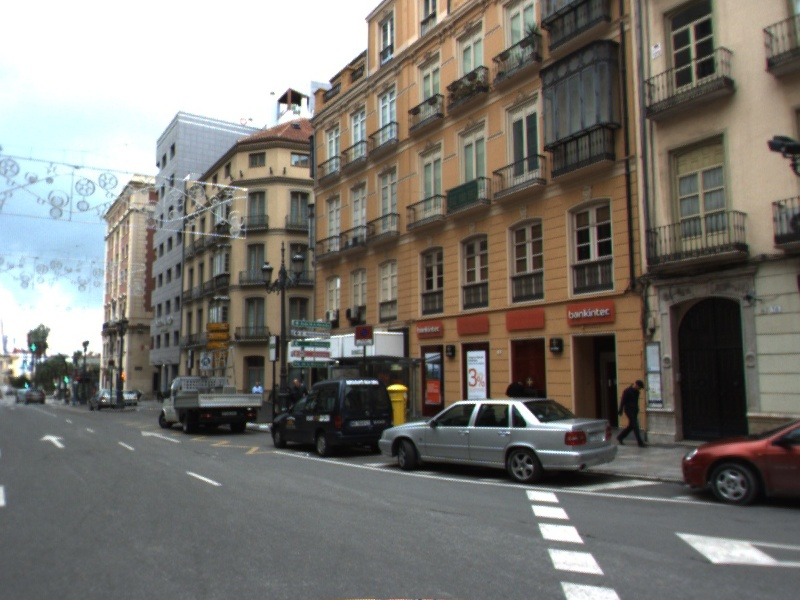STRAIGHT: (139, 428, 184, 445), (37, 432, 69, 450)
